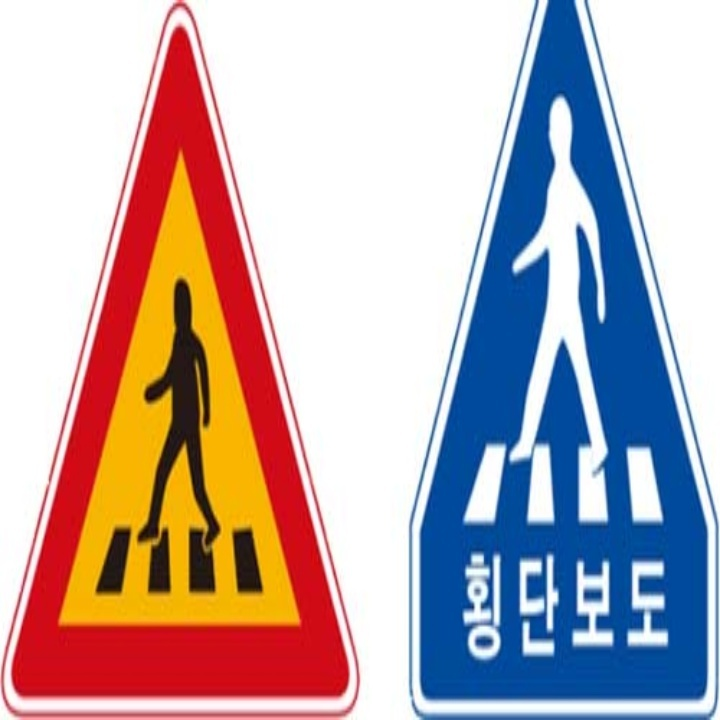cross: (491, 89, 611, 476), (133, 266, 232, 553)
